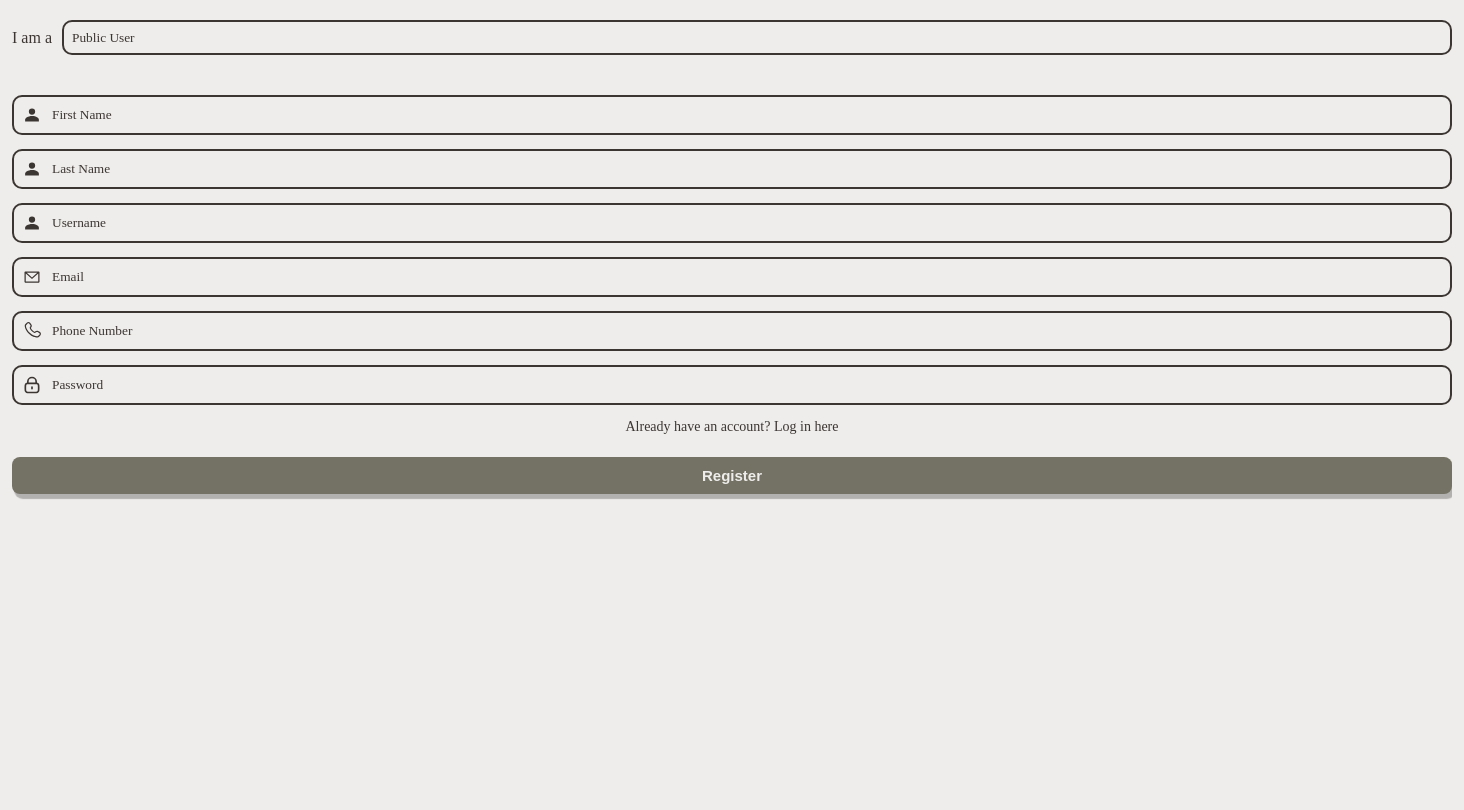
Test: SignUpAsClient Component › validates password minimum length
The image size is (1464, 810).
Type "short" into the password field with placeholder "Password".
click(747, 385); type("short")  # box [52,377,1442,393]
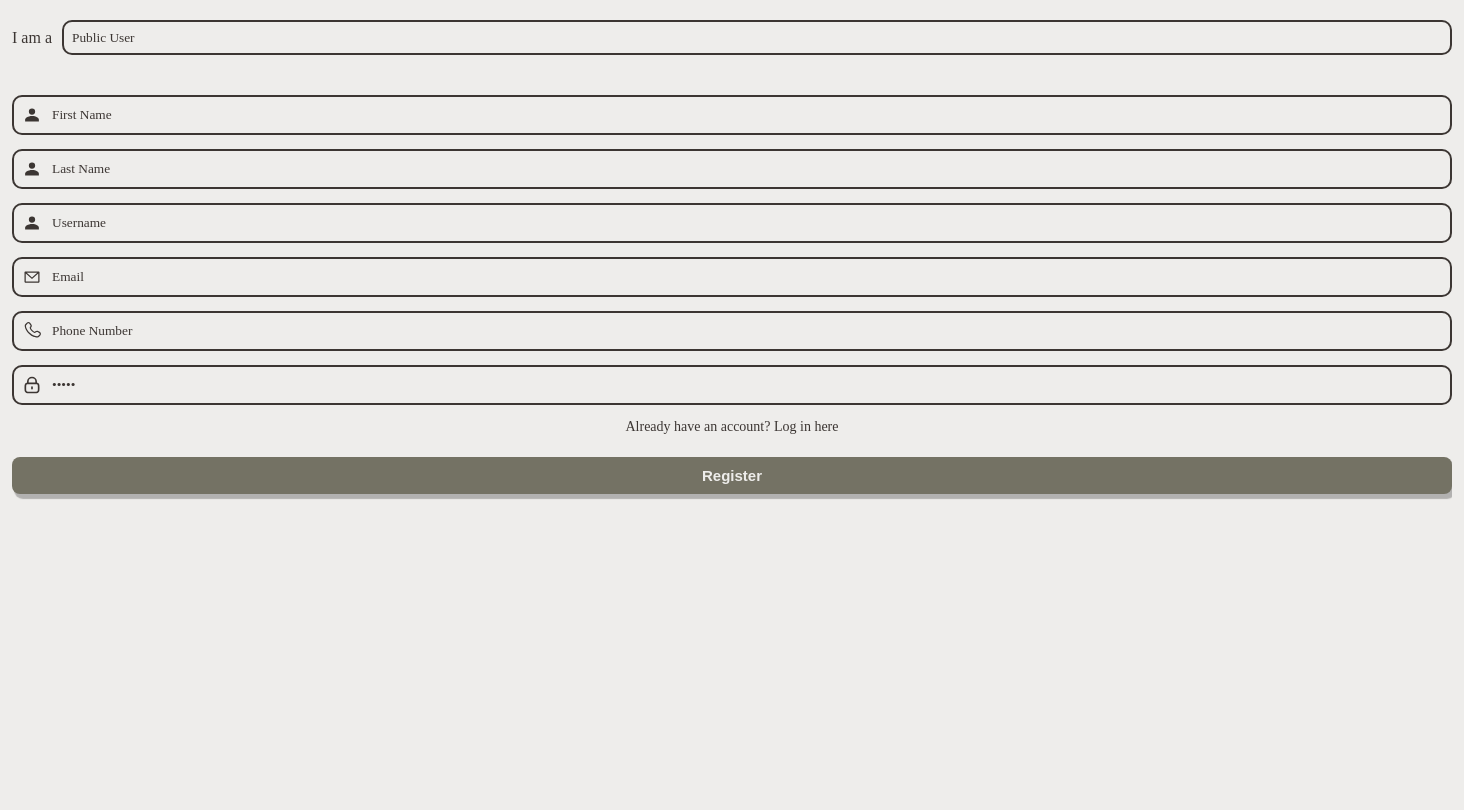
Click the button "Register".
click(732, 476)  # box [12,457,1452,494]
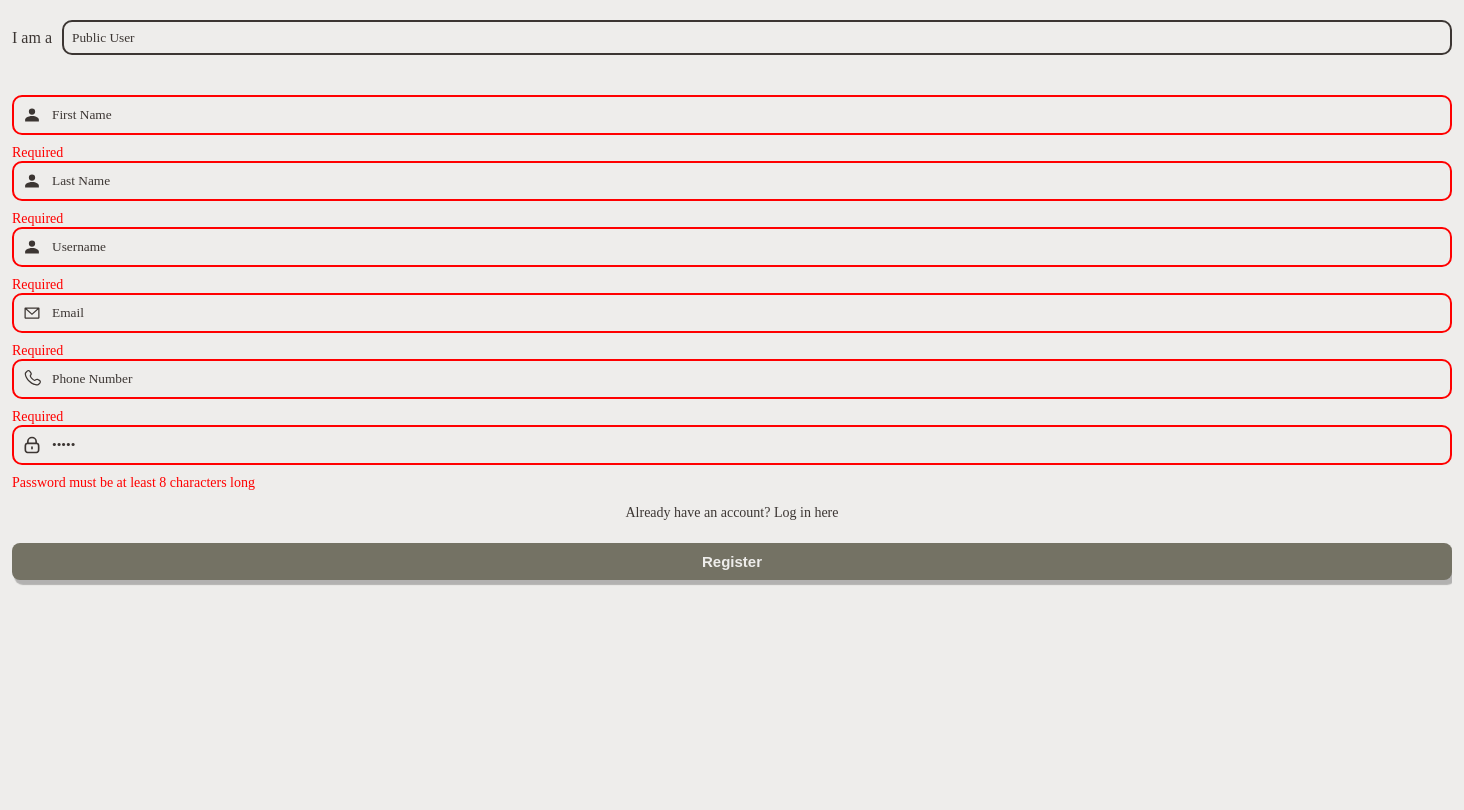
Check: the text "Password must be at least 8 characters long" is shown, box [12,475,255,490]
